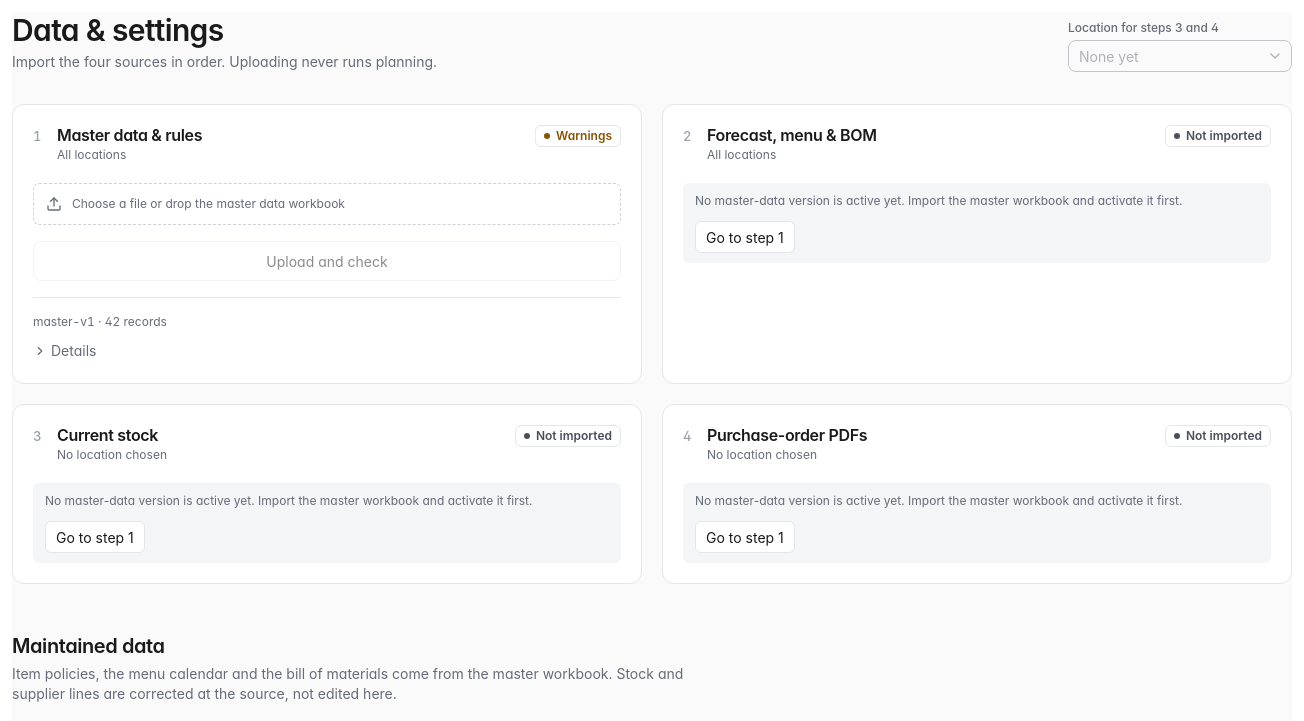
it: import outcomes › shows each validation issue with the remedy the API supplied
The image size is (1304, 721).
Detail lives behind a disclosure rather than filling the card.
Click the button "Details": (65, 350) [29,338,100,363]
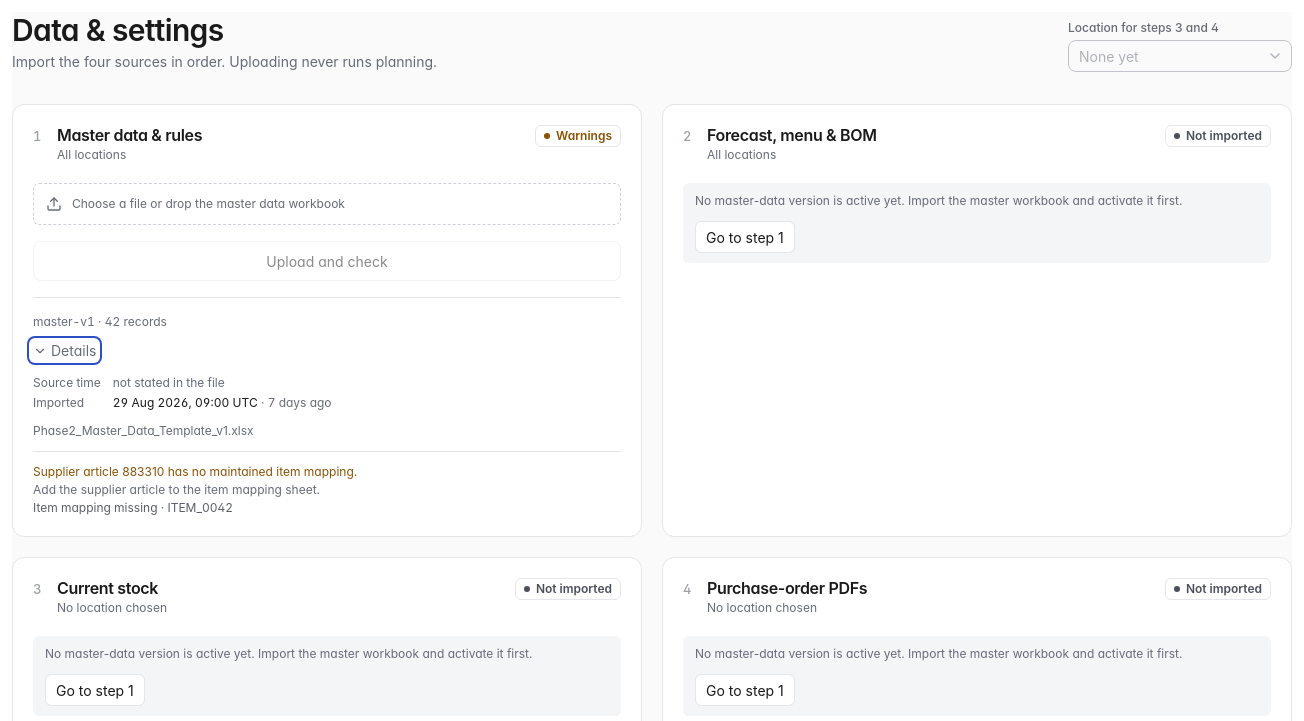
Now the text "Supplier article 883310 has no maintained item mapping." is shown, box [33,464,357,479]
Now the text "Add the supplier article to the item mapping sheet." is shown, box [33,482,320,497]
